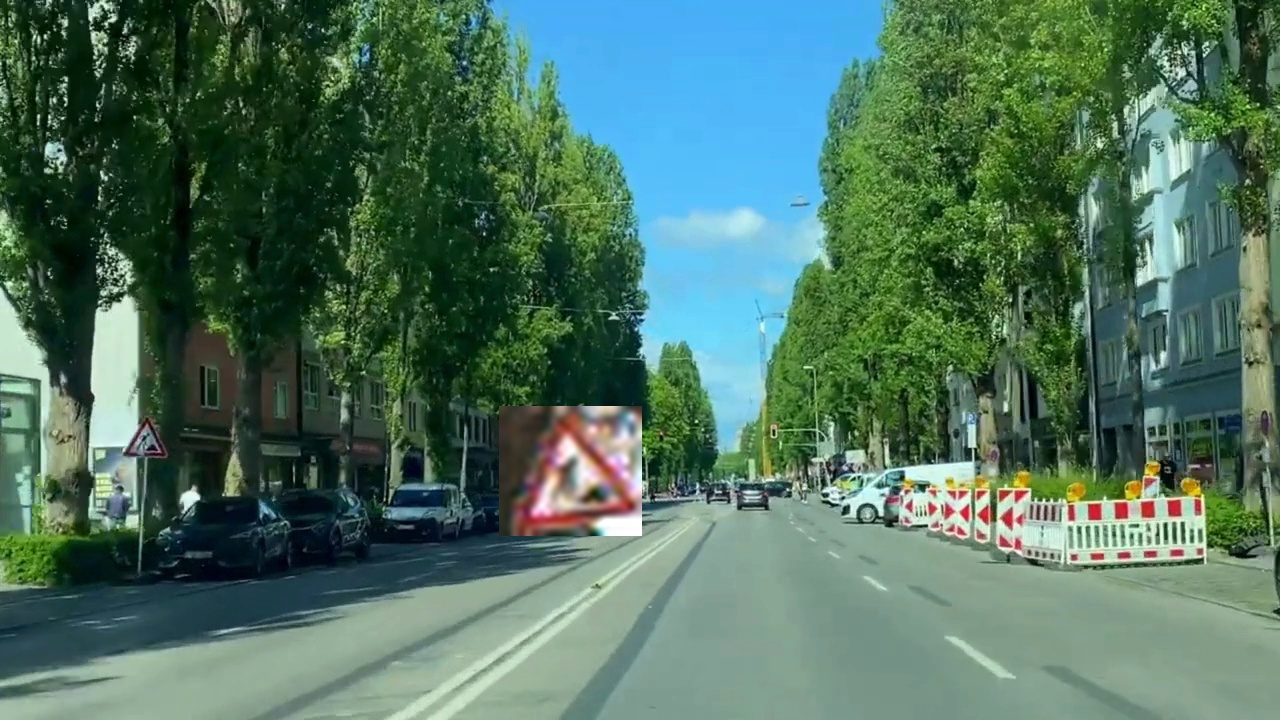Road work: (499, 406, 642, 536)
